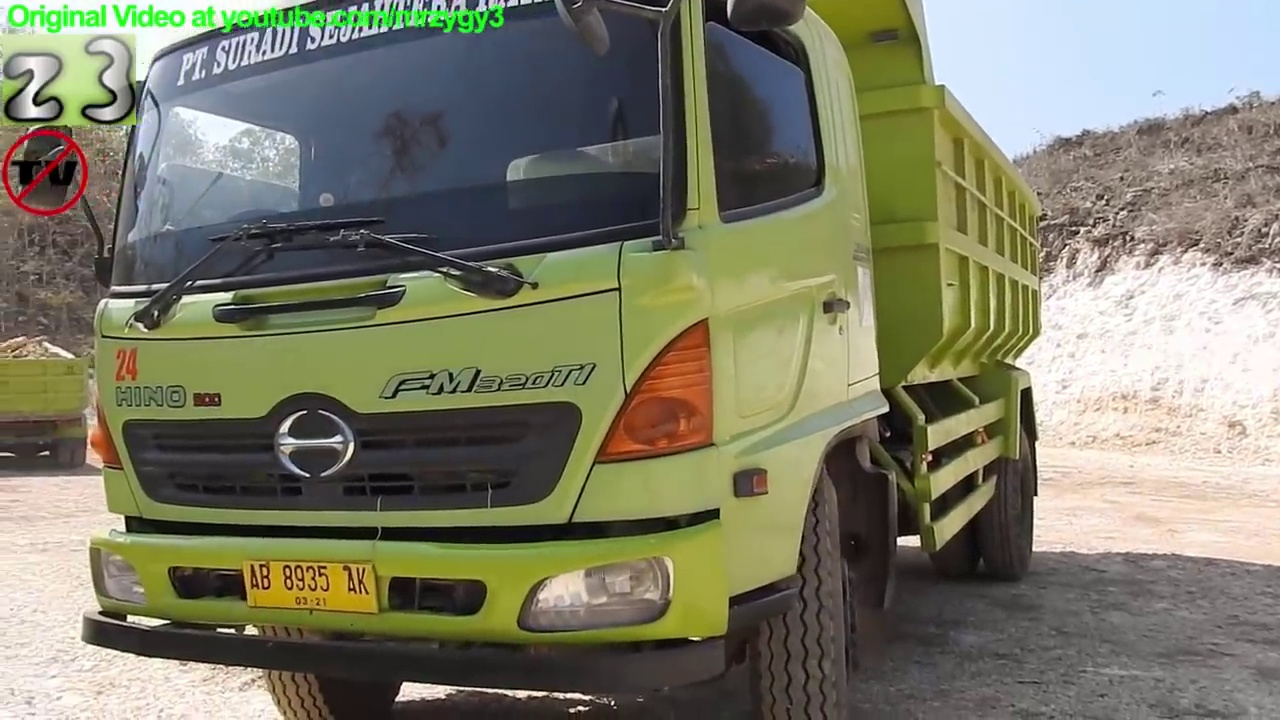truck: (12, 1, 1057, 720), (1, 345, 95, 476)
